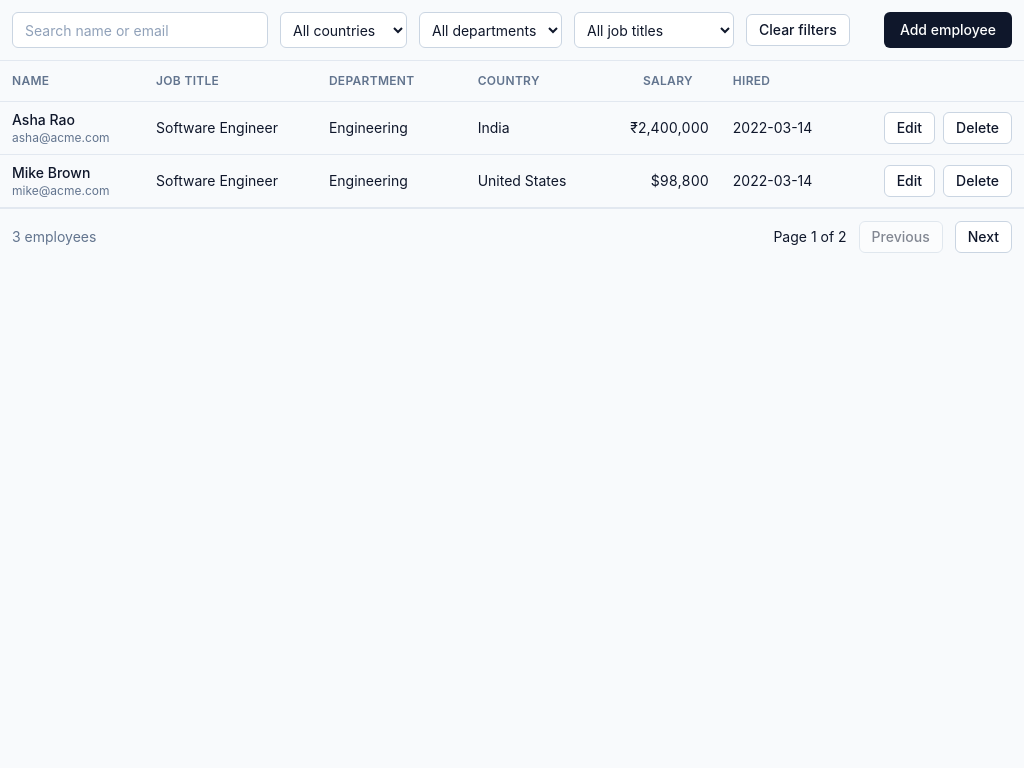
Scenario: adding, editing and deleting employees › deleting › asks for confirmation and names the employee
Expected: the text "Asha Rao" is shown, [12,110,75,128]
Click the button with aria-label "Delete Asha Rao" at (978, 128), box [943,112,1012,144]
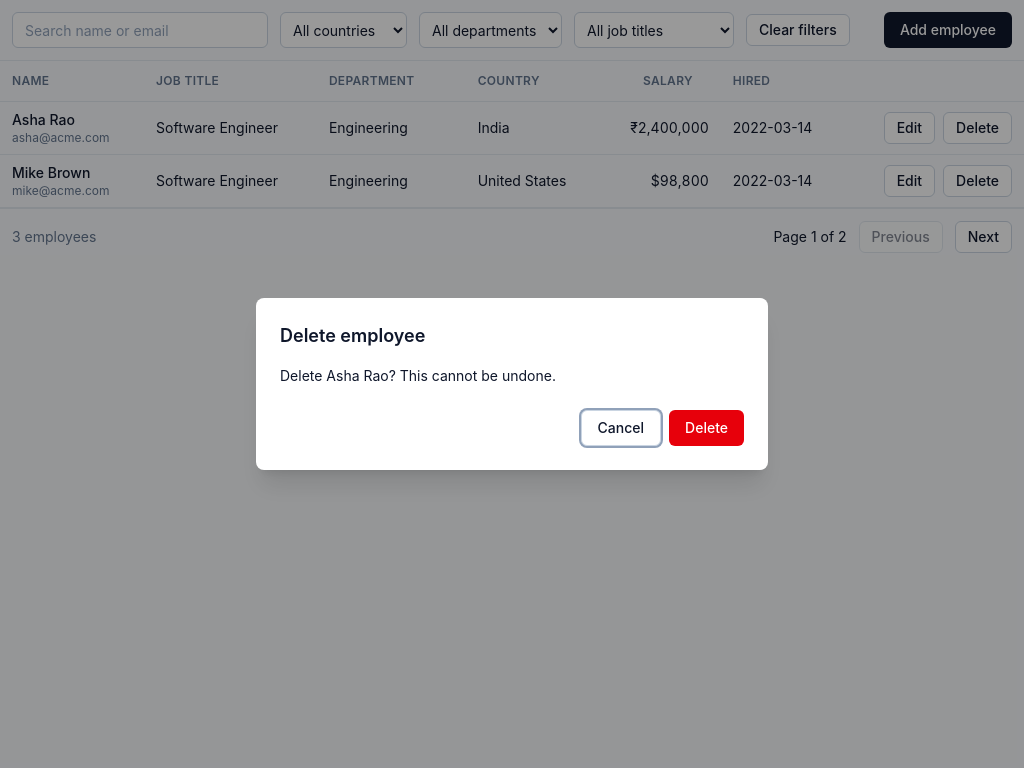
Result: the dialog "Delete employee" is shown at [256,298,768,470]
Result: the text "Delete Asha Rao? This cannot be undone." is shown at [280,367,556,384]
